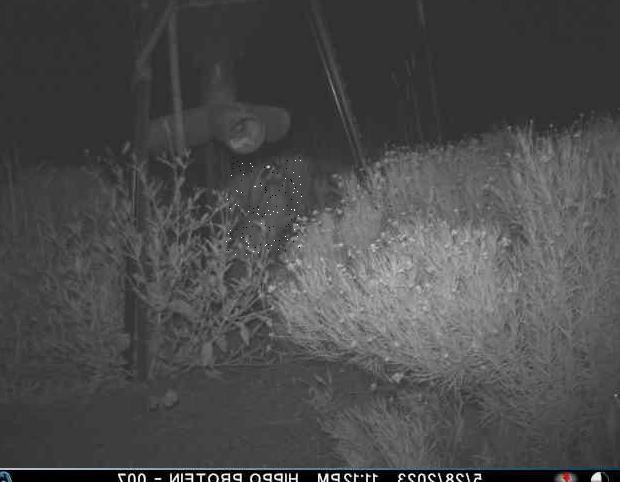Raccoon: (226, 158, 302, 257)
